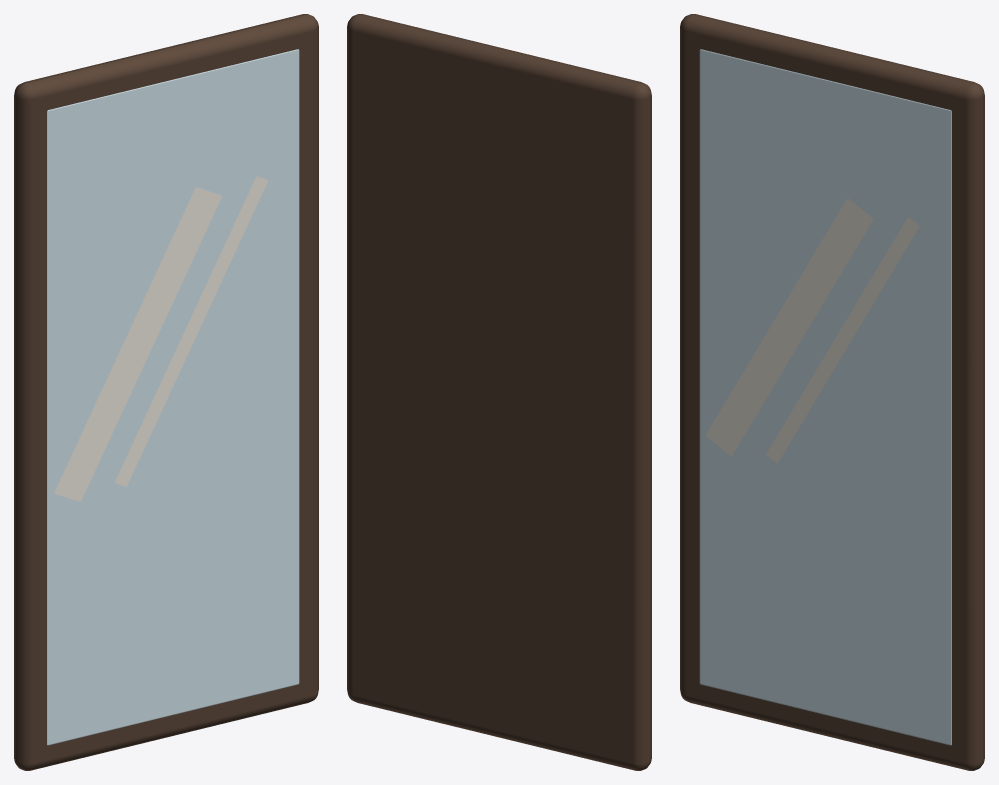
Rendered from mirror.glb.
3 views of the same model, side by side, from view 1: azimuth 30°, elevation 25°; view 2: azimuth 150°, elevation 25°; view 3: azimuth 330°, elevation 25° (orthographic).
Parts seen in each view (by area): view 1: mirror; view 2: mirror; view 3: mirror.
Part boxes in pixels (left/top/right/bottom): mirror: left=14, top=14, right=318, bottom=770; mirror: left=347, top=14, right=651, bottom=770; mirror: left=680, top=14, right=984, bottom=770.
Bounding box in the file's own units: 0.5089 × 1.11 × 0.042.
